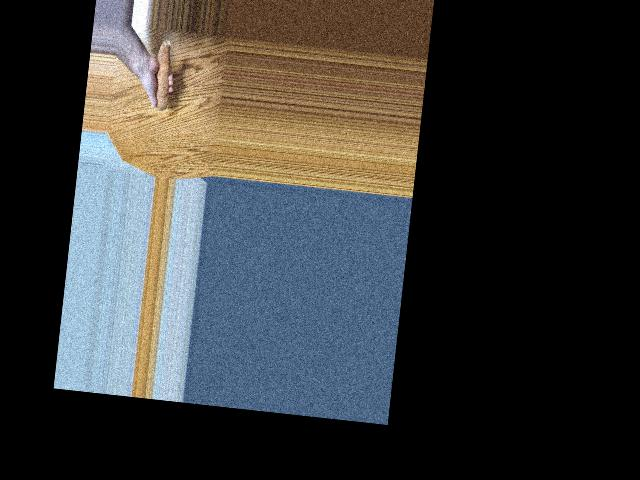sweet_potato: (146, 38, 177, 117)
